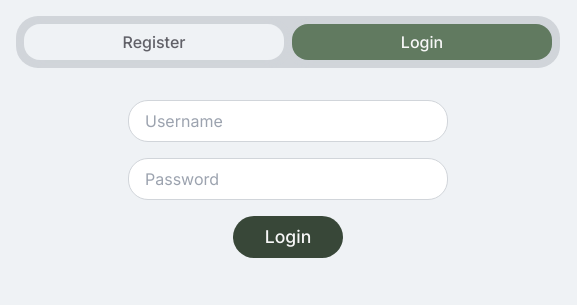
Test case: Login Page -- /Login › Unauthenticated User › Input Validation -- Login Tab › shows an error message when user submits without entering any credentials
The width and height of the screenshot is (577, 305).
Click the button with test id "submit-btn".
click(288, 237)  # box left=233, top=216, right=343, bottom=258
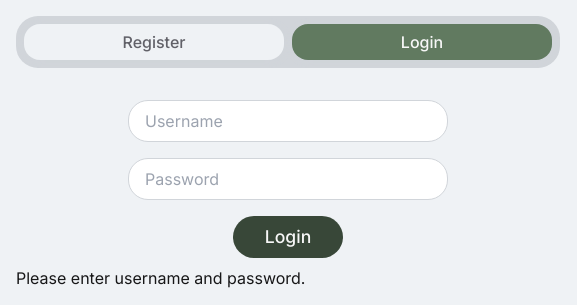
expect the text with test id "message" reads "Please enter username and password.": met, box left=16, top=268, right=306, bottom=288
